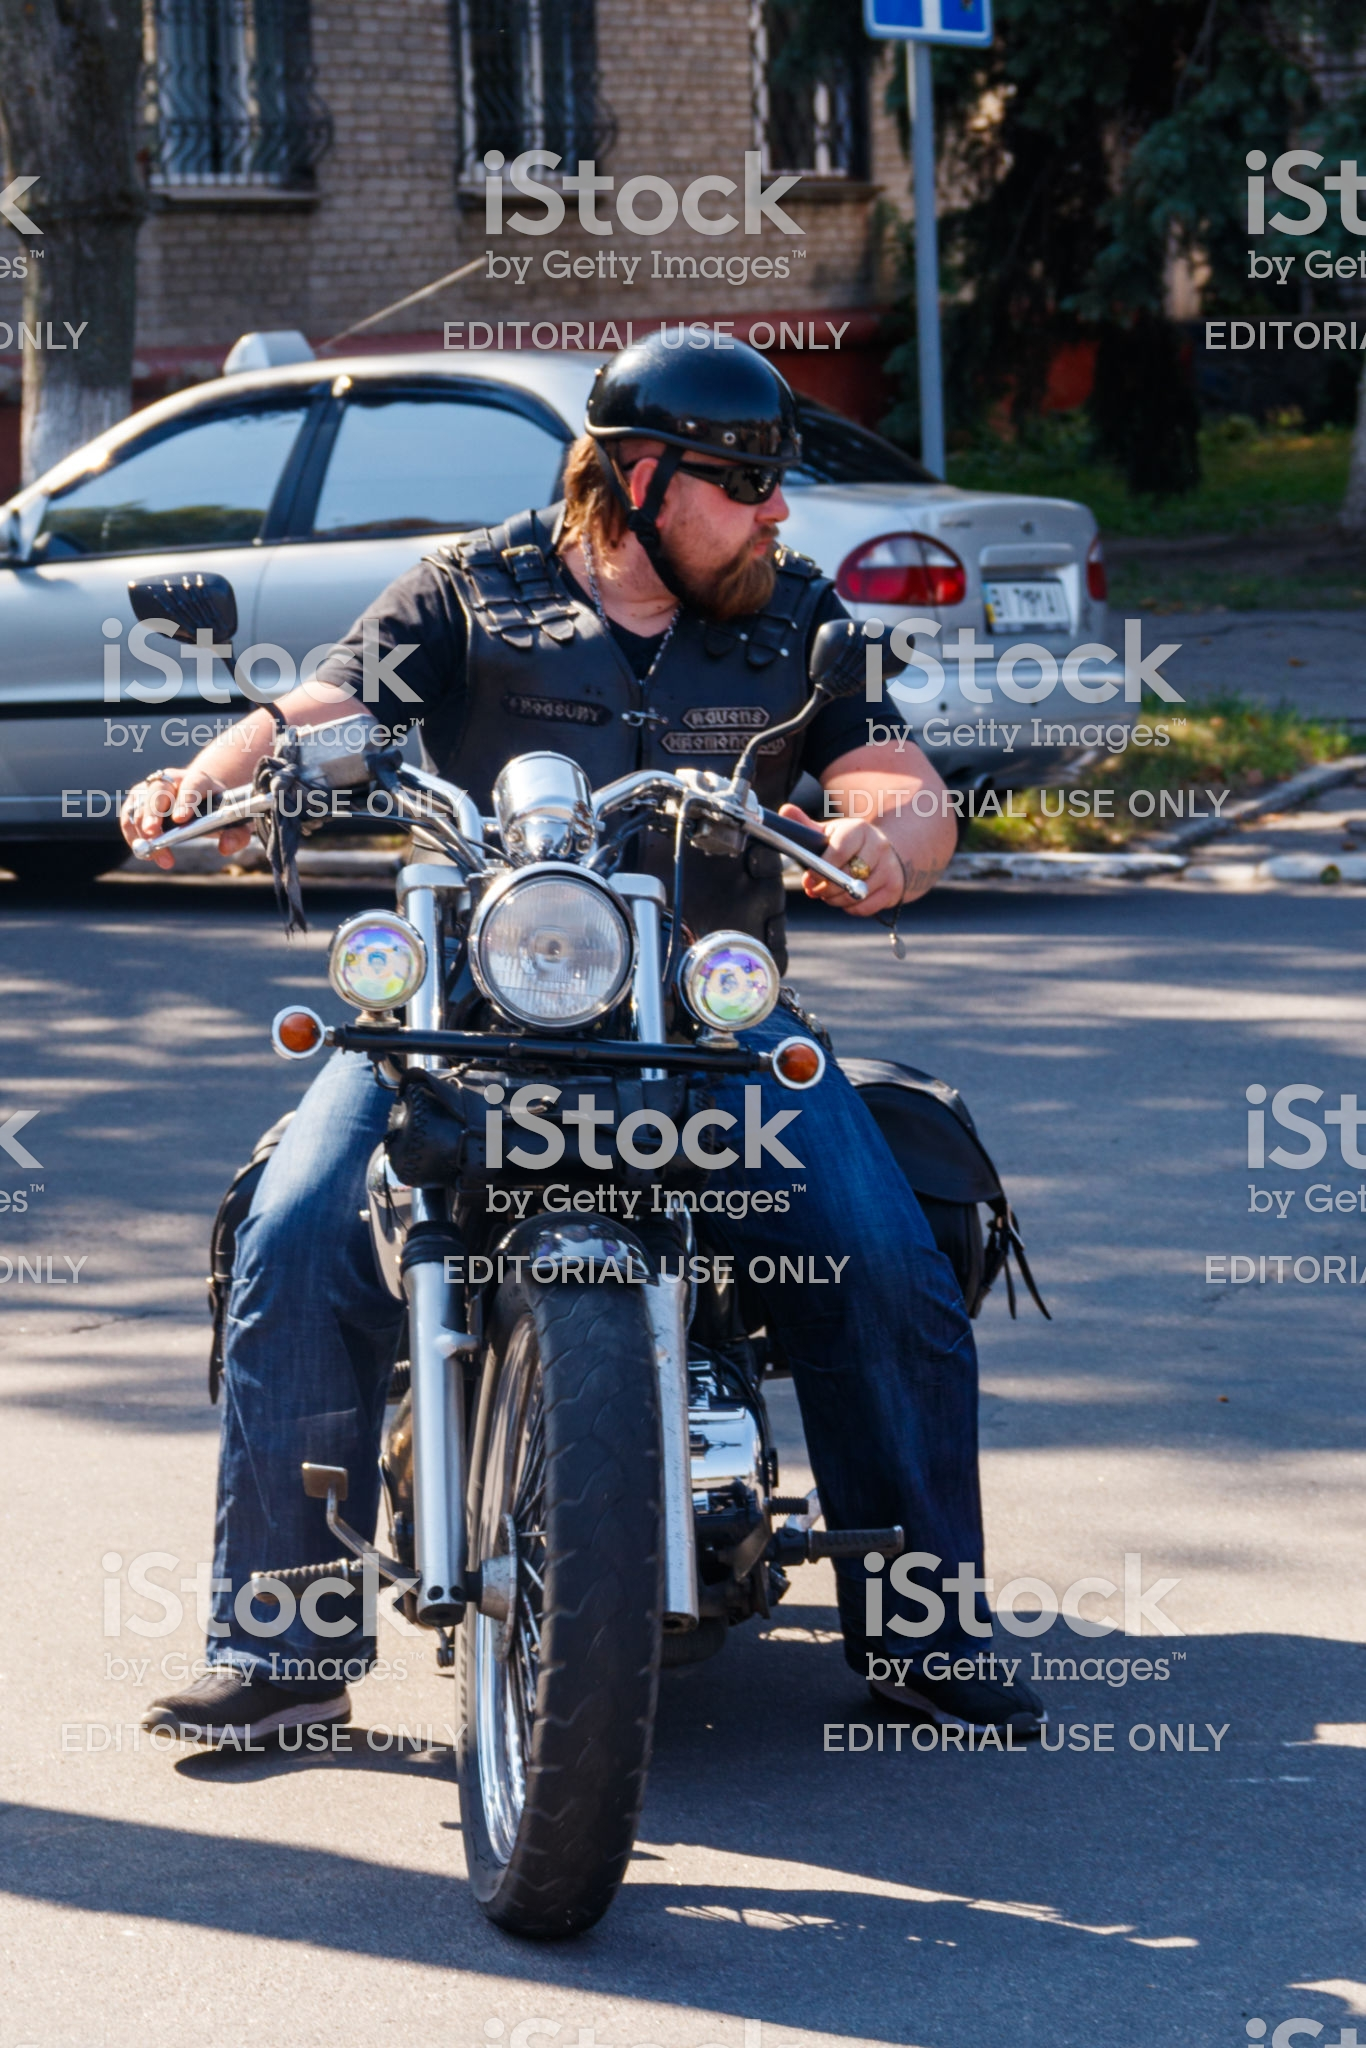helmet: (585, 328, 800, 472)
